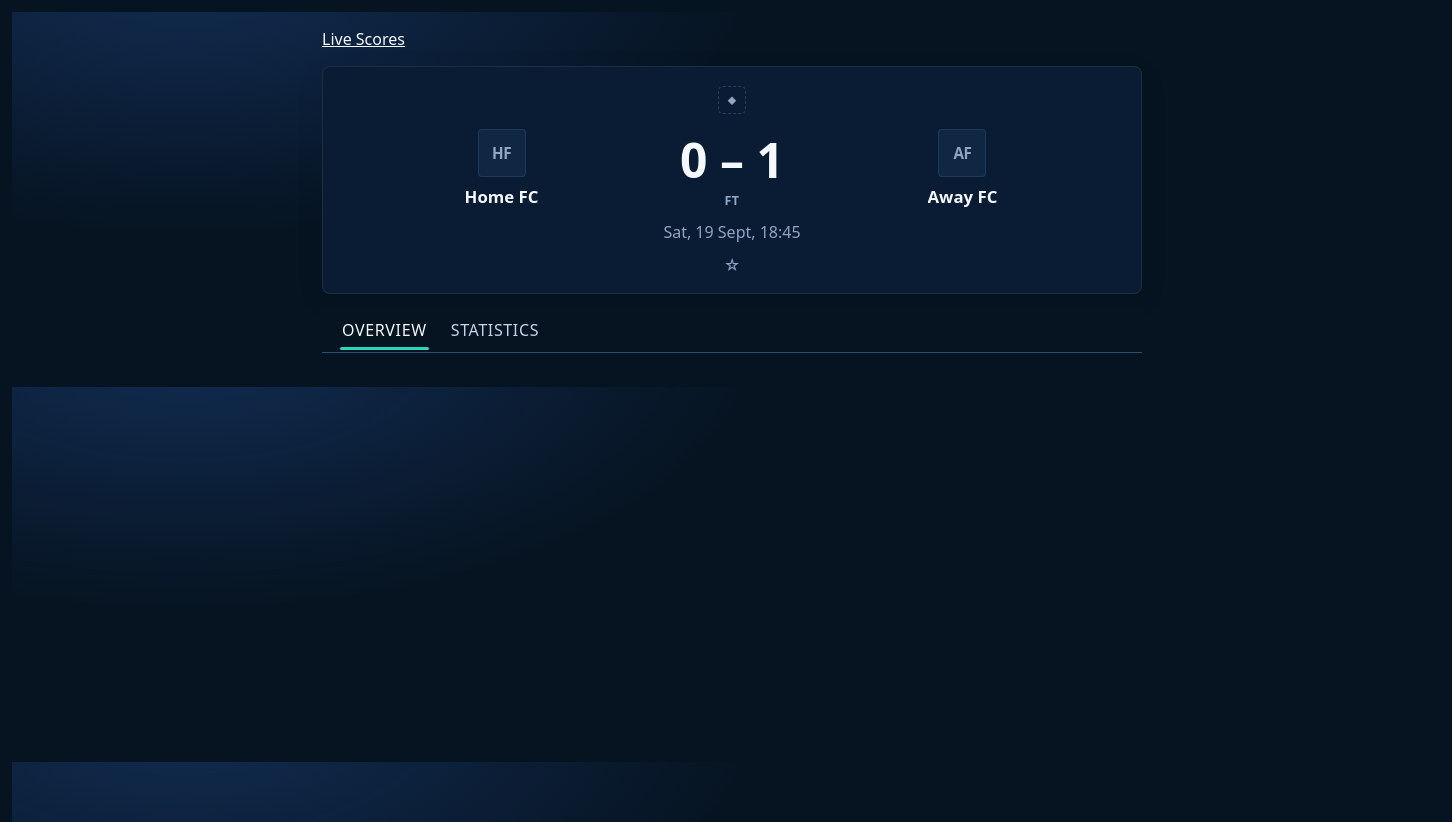
preserves tab selection in the URL for refresh and player return
Click the tab "Statistics".
click(495, 330)  # box [439, 308, 551, 352]
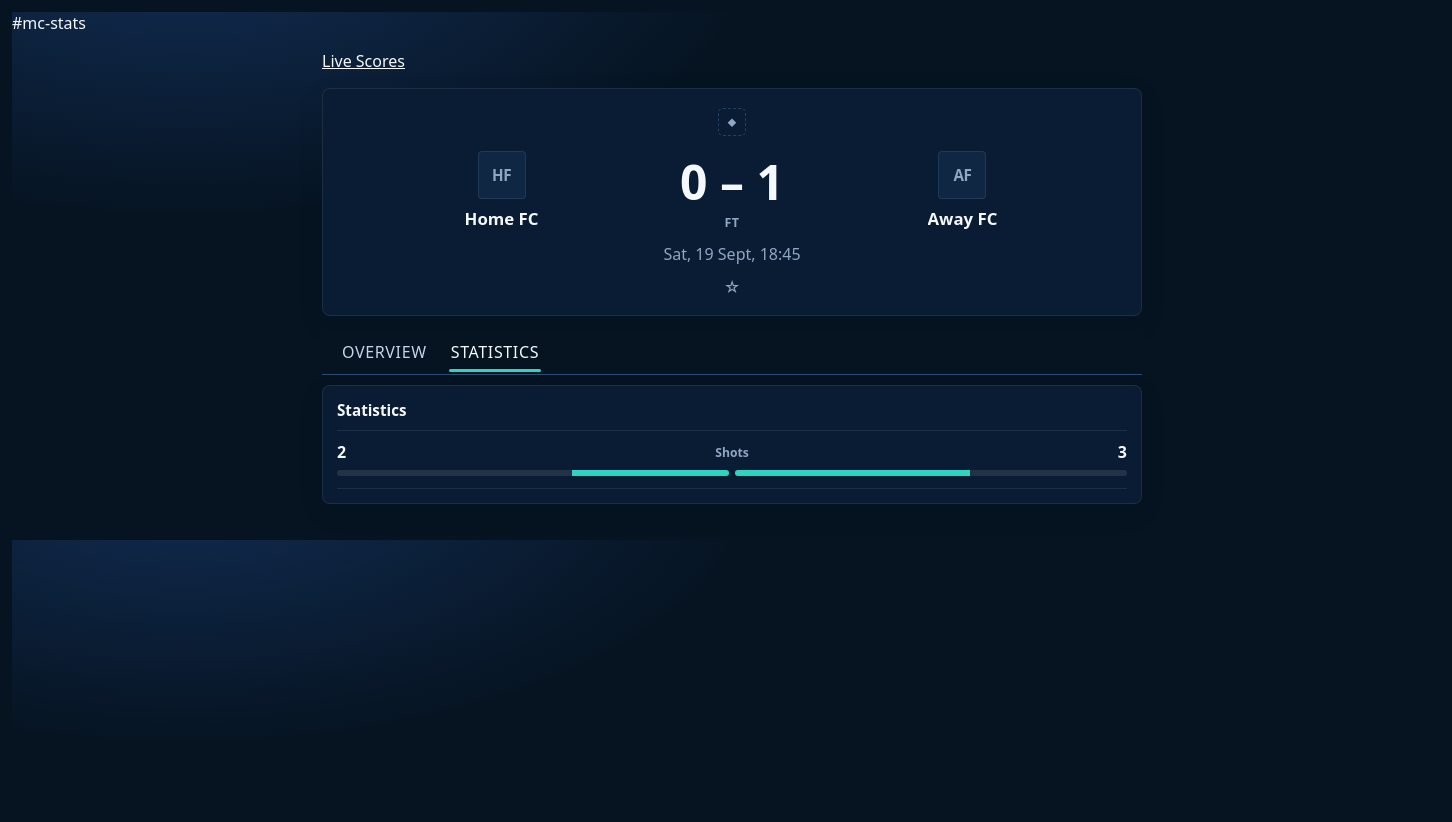
Expected: the text with test id "where" reads "#mc-stats", [12, 12, 86, 34]
